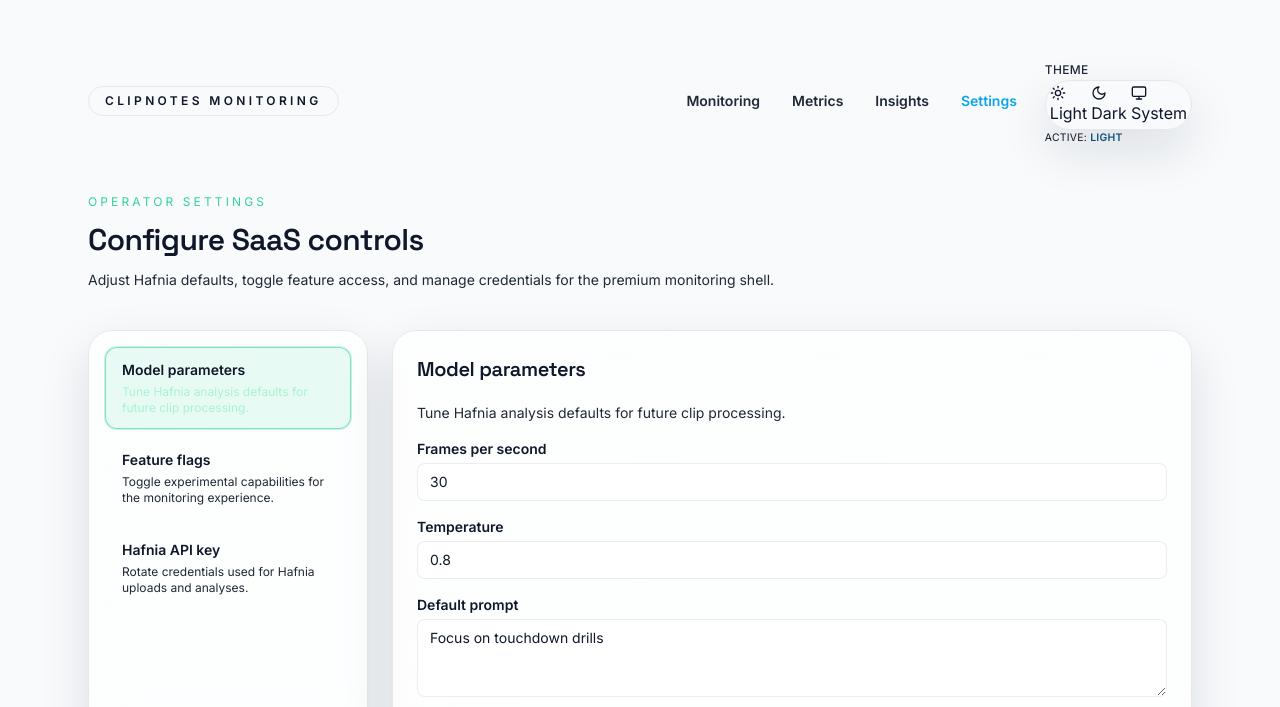
Test: settings page integration › loads configuration and displays masked Hafnia key status
The image size is (1280, 707).
Expected: the number field labelled "Frames per second" holds "30", [417,463,1167,501]
Click the tab "Feature flags": (228, 478) [105,437,351,519]
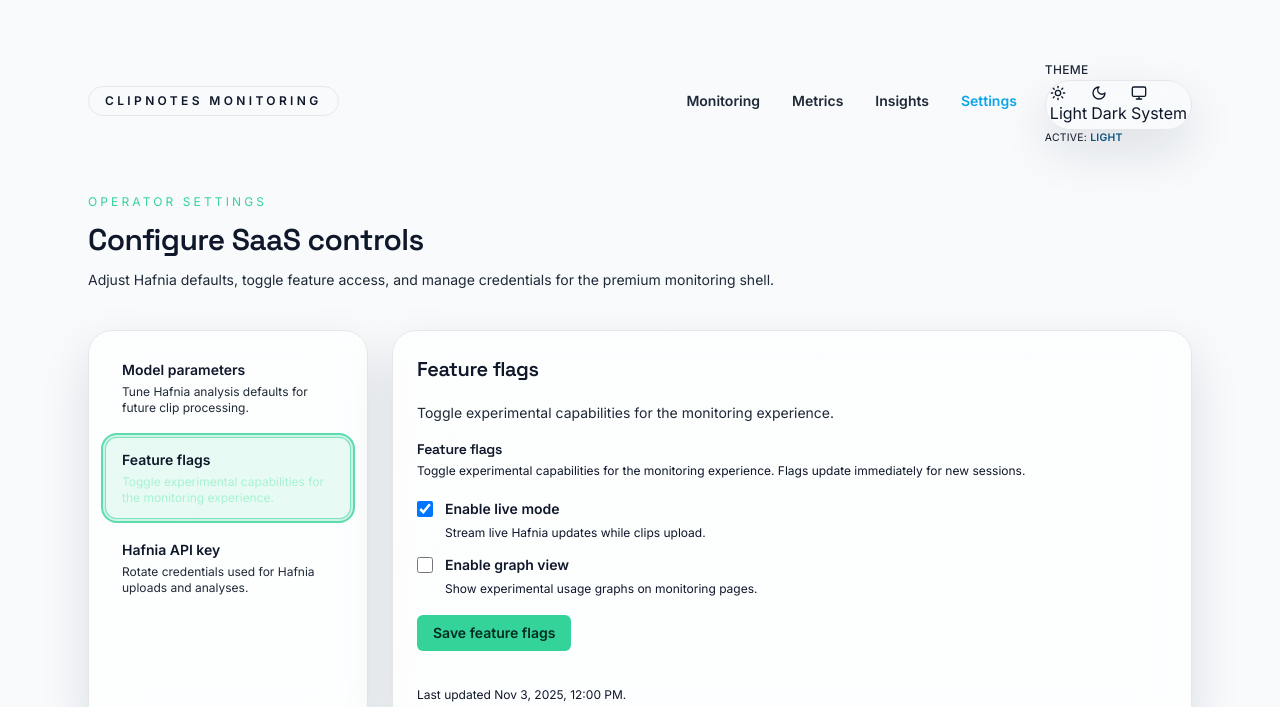
Expected: the checkbox labelled "Enable live mode" is checked, [417,501,433,517]
Expected: the checkbox labelled "Enable graph view" is not checked, [417,557,433,573]
Click the tab "Hafnia API key": (228, 568) [105,527,351,609]
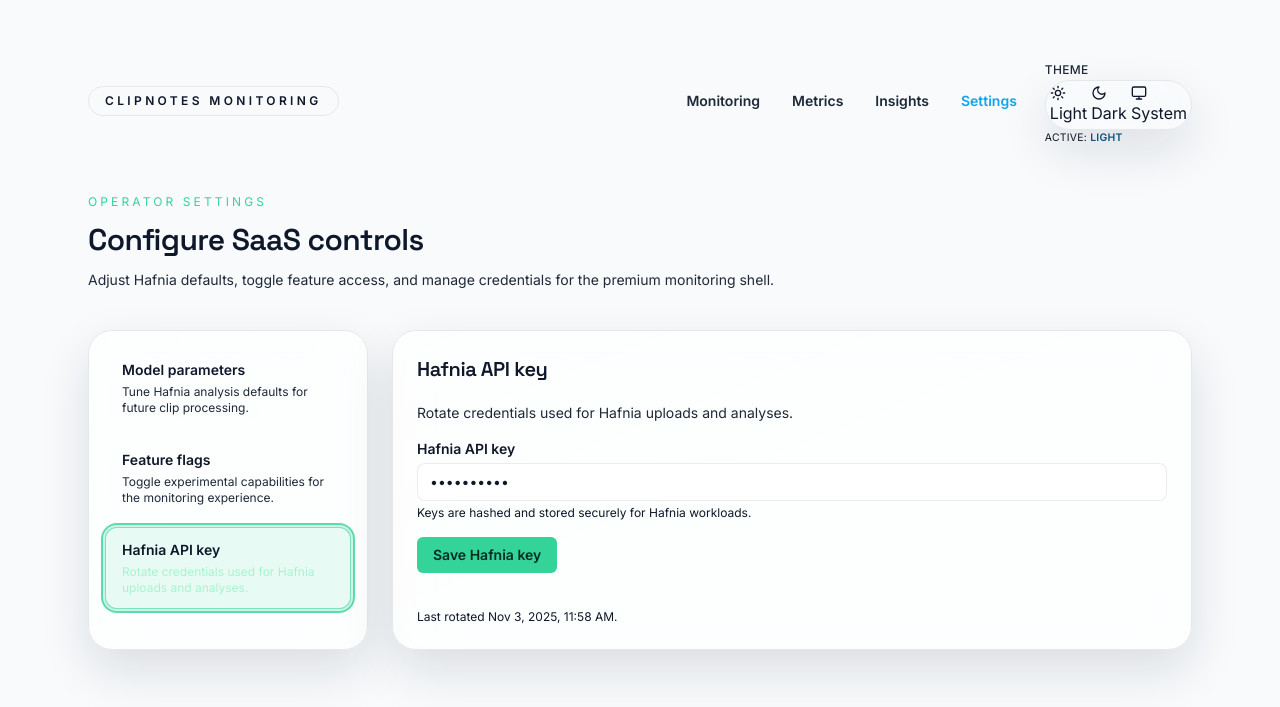
Expected: the password field labelled "Hafnia API key" holds "**********", [417,463,1167,501]
